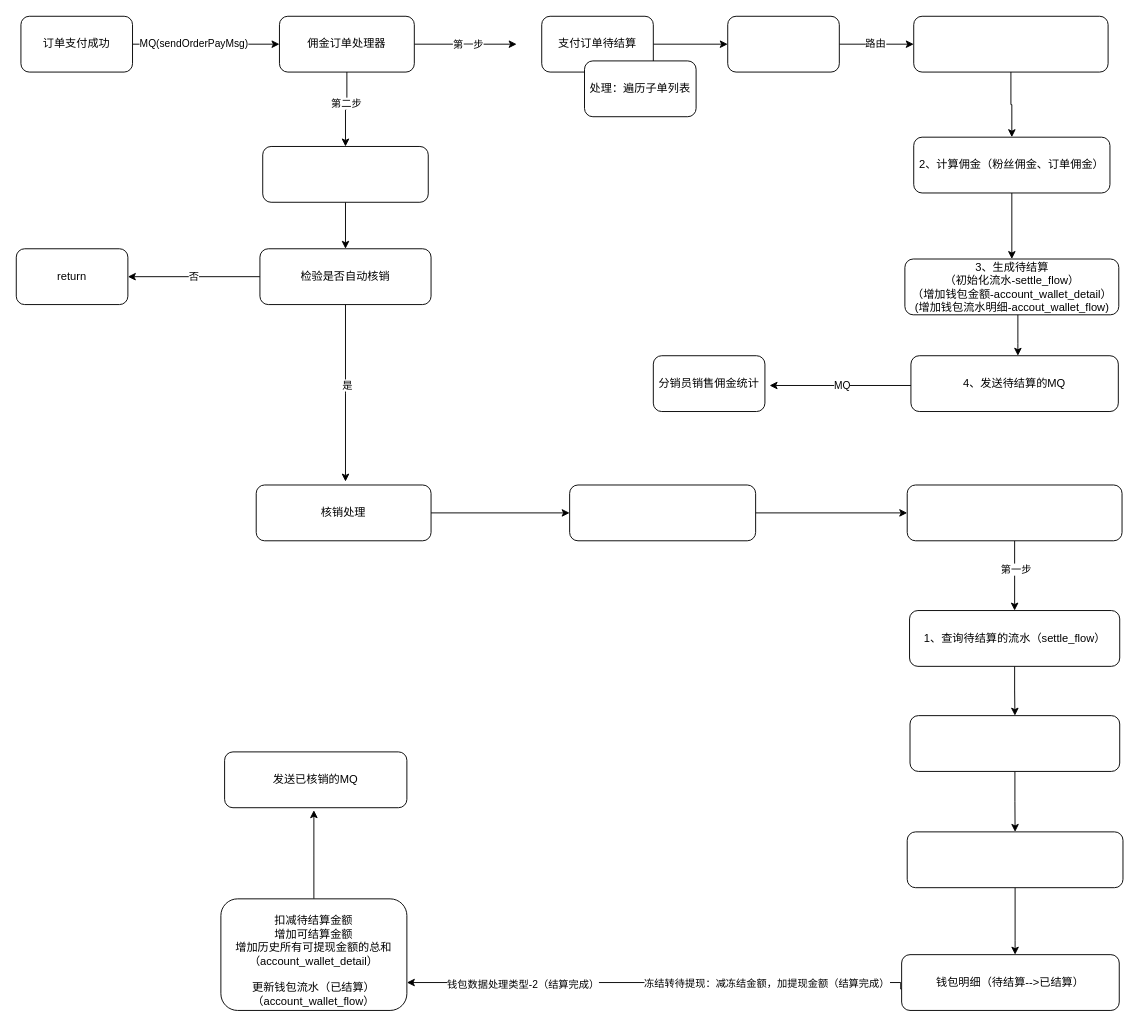
The diagram is 1139 pixels wide and 1027 high, and some of its shapes have lost their labels. Here are the shapes that lost their labels. From the top down, the box of each, then its label:
(727, 15, 839, 72): 结算策略路由器
(913, 15, 1108, 72): 1、获取分销员（下单）信息
(262, 146, 428, 202): 初始化核销码（verification_flow） (verification_code_deal)
(569, 484, 756, 541): 更新核销码状态为已使用（verification_code_deal） 更新核销流水（已核销）verification_flow
(906, 484, 1122, 541): 服务类订单核销确认 (确认待结算)
(909, 715, 1120, 771): 2、处理结算（确认待结算）
(906, 831, 1123, 888): 更新结算流水（结算成功-1）
